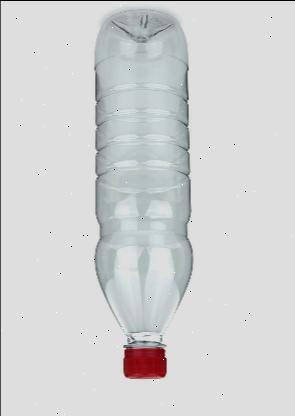Plastic Bottle: (89, 6, 199, 384)
